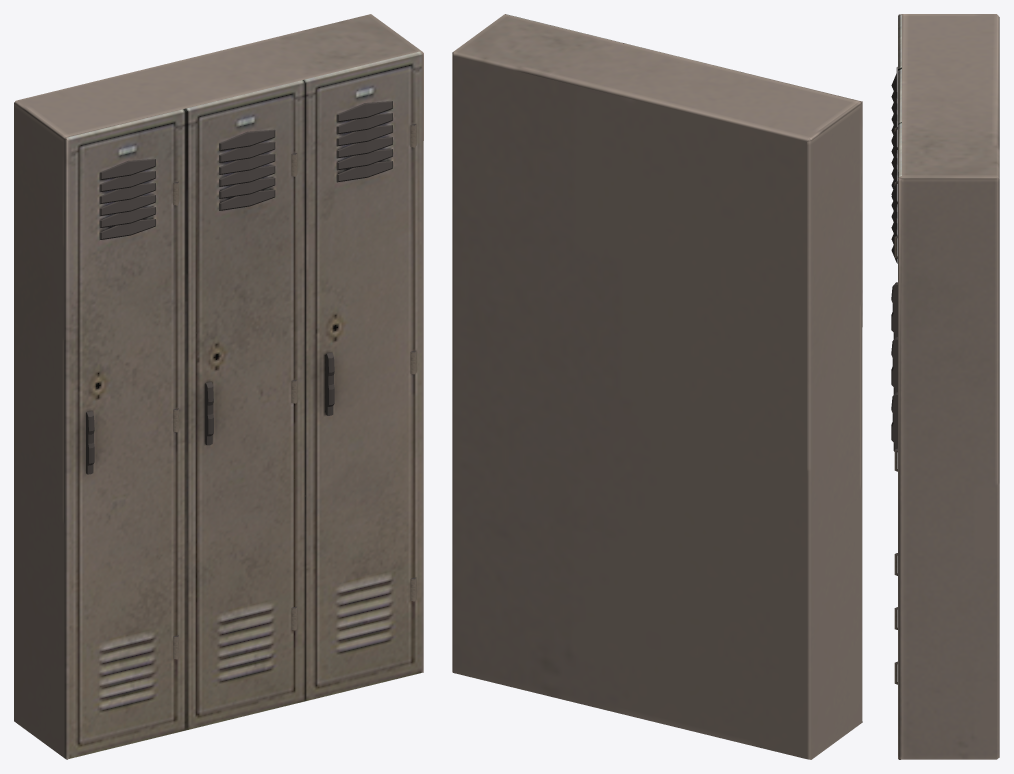
The model's file is locker_3pack_01.fbx.
The picture shows the model from 3 angles, left to right: view 1: azimuth 30°, elevation 25°; view 2: azimuth 150°, elevation 25°; view 3: azimuth 270°, elevation 25°; orthographic projection. The views are drawn at different scales.
Visible parts, largest first — view 1: locker_3pack_01; view 2: locker_3pack_01; view 3: locker_3pack_01.
Boxes of the visible parts, x1,y1,x2,y2 form: locker_3pack_01: [14, 14, 423, 759]; locker_3pack_01: [452, 14, 862, 759]; locker_3pack_01: [891, 14, 999, 759].
Size of the model in its own units: 99.87 by 165 by 27.89.
